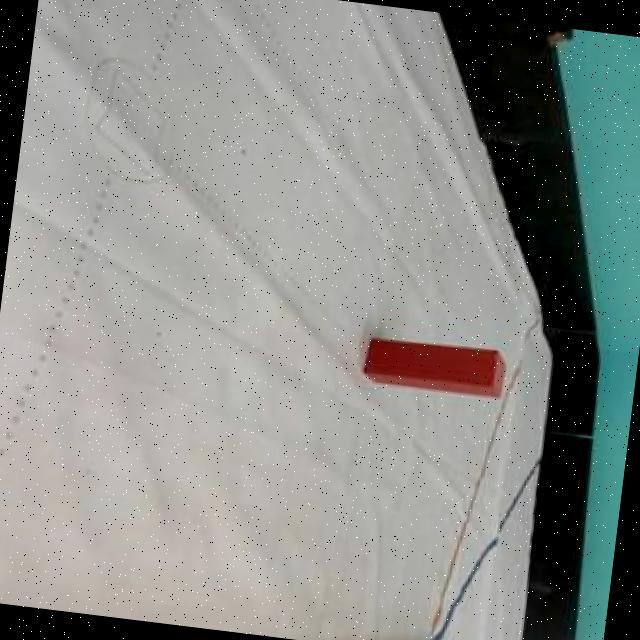redbox: (362, 332, 509, 398)
